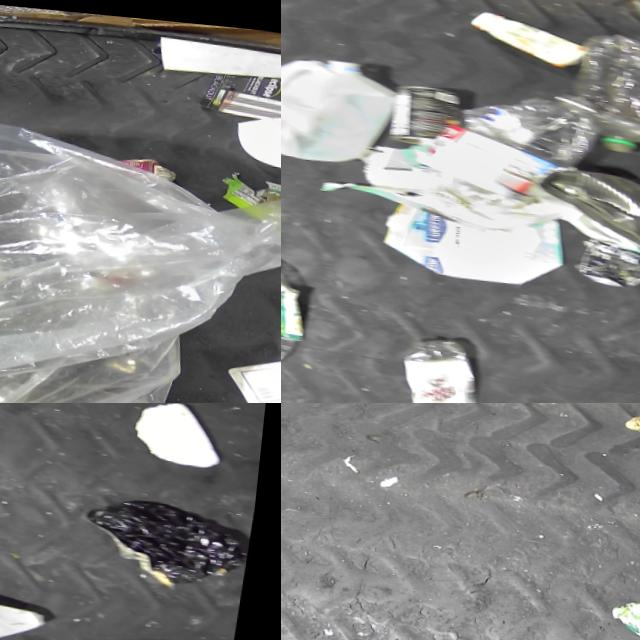can: (536, 153, 640, 256), (391, 75, 466, 143), (582, 226, 640, 280), (87, 624, 234, 640), (0, 625, 87, 640)
milk_jug: (281, 39, 406, 166), (229, 324, 281, 403)
plastic_bottle: (453, 70, 605, 210), (570, 19, 640, 148), (400, 323, 494, 403), (281, 244, 323, 391)
